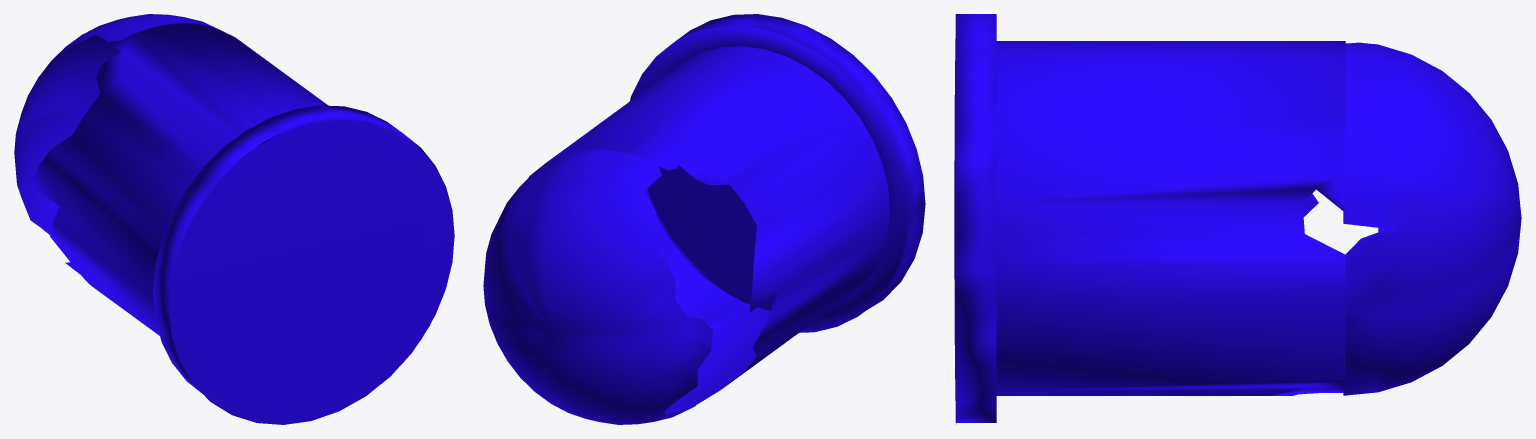
Rendered from LED Blown.fbx.
3 renders of one model, left to right at view 1: azimuth 30°, elevation 25°; view 2: azimuth 150°, elevation 25°; view 3: azimuth 270°, elevation 25°, orthographic. The views are drawn at different scales.
Parts seen in each view (by area): view 1: Flat_Spot, Exposy_Case; view 2: Flat_Spot, Exposy_Case; view 3: Flat_Spot, Exposy_Case.
Part boxes in pixels (x1=…): Flat_Spot: x1=32, y1=23, x2=454, y2=424; Exposy_Case: x1=14, y1=14, x2=278, y2=274; Flat_Spot: x1=528, y1=14, x2=925, y2=414; Exposy_Case: x1=483, y1=149, x2=712, y2=424; Flat_Spot: x1=954, y1=14, x2=1345, y2=424; Exposy_Case: x1=1343, y1=42, x2=1521, y2=395.
Bounding box in the file's own units: 2 × 2.01 × 2.76.
